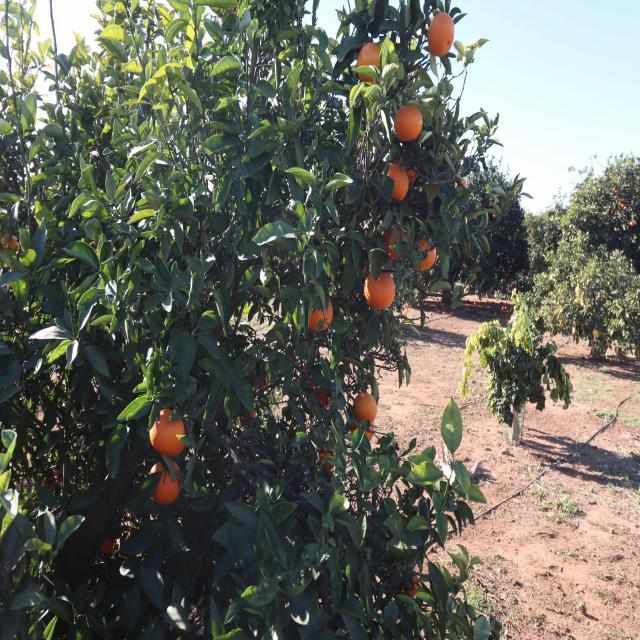Jeruk Sudah Matang: (150, 406, 184, 455), (150, 460, 181, 502), (428, 12, 454, 57), (392, 104, 422, 140), (364, 270, 394, 306), (382, 162, 409, 200), (357, 42, 381, 84), (382, 227, 408, 262), (412, 238, 438, 272), (308, 298, 334, 332), (352, 391, 377, 421), (354, 423, 374, 442)
